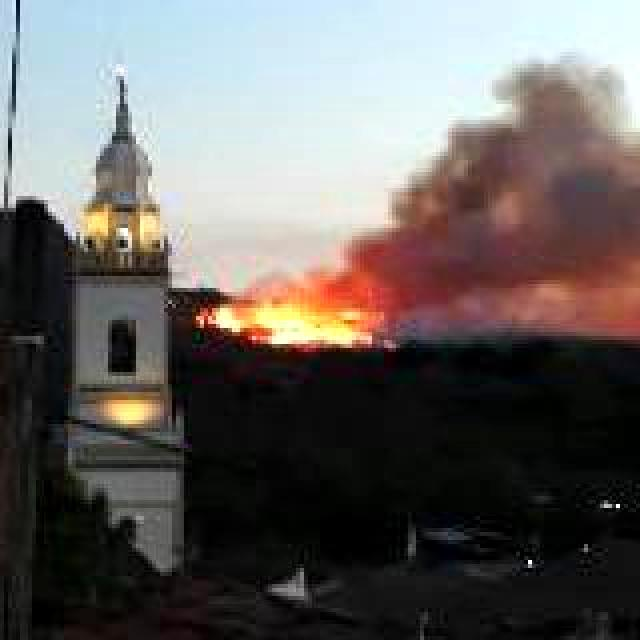smoke: (340, 48, 640, 330)
